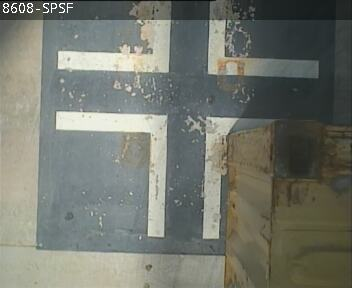groundmarker_1: (54, 109, 287, 239), (58, 1, 319, 79)
